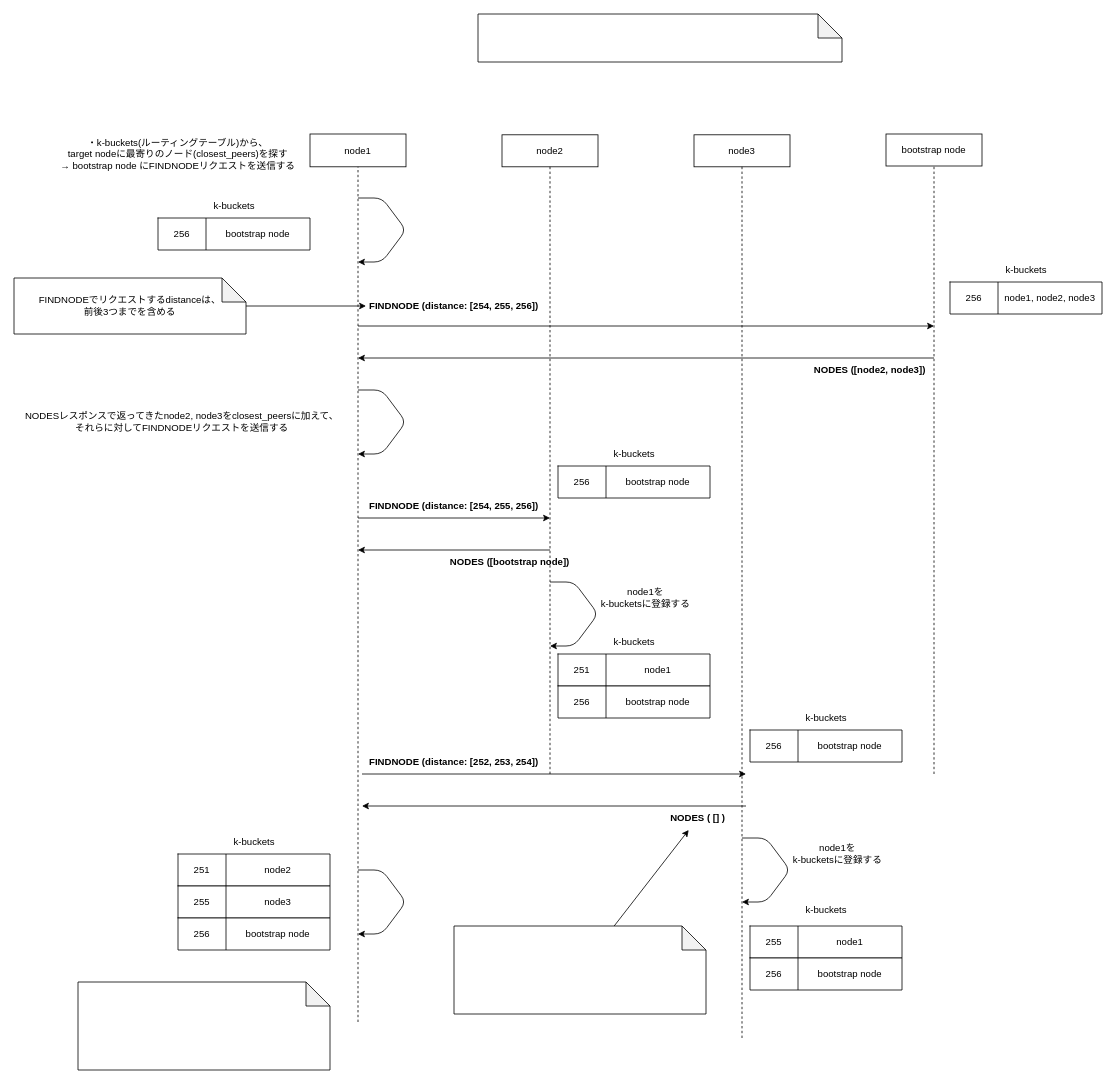
This 1116x1084 diagram has some shape labels left out. Each missing label, with the box of its shape:
FINDNODEリクエストのdistanceにマッチするノード情報を持っていないので、レスポンスは 0 件: (453, 925, 706, 1014)
※ WHOAREYOUやPINGは省略: (477, 13, 842, 62)
結果は、 node2, node3, bootstrap node の3件: (77, 981, 330, 1070)
